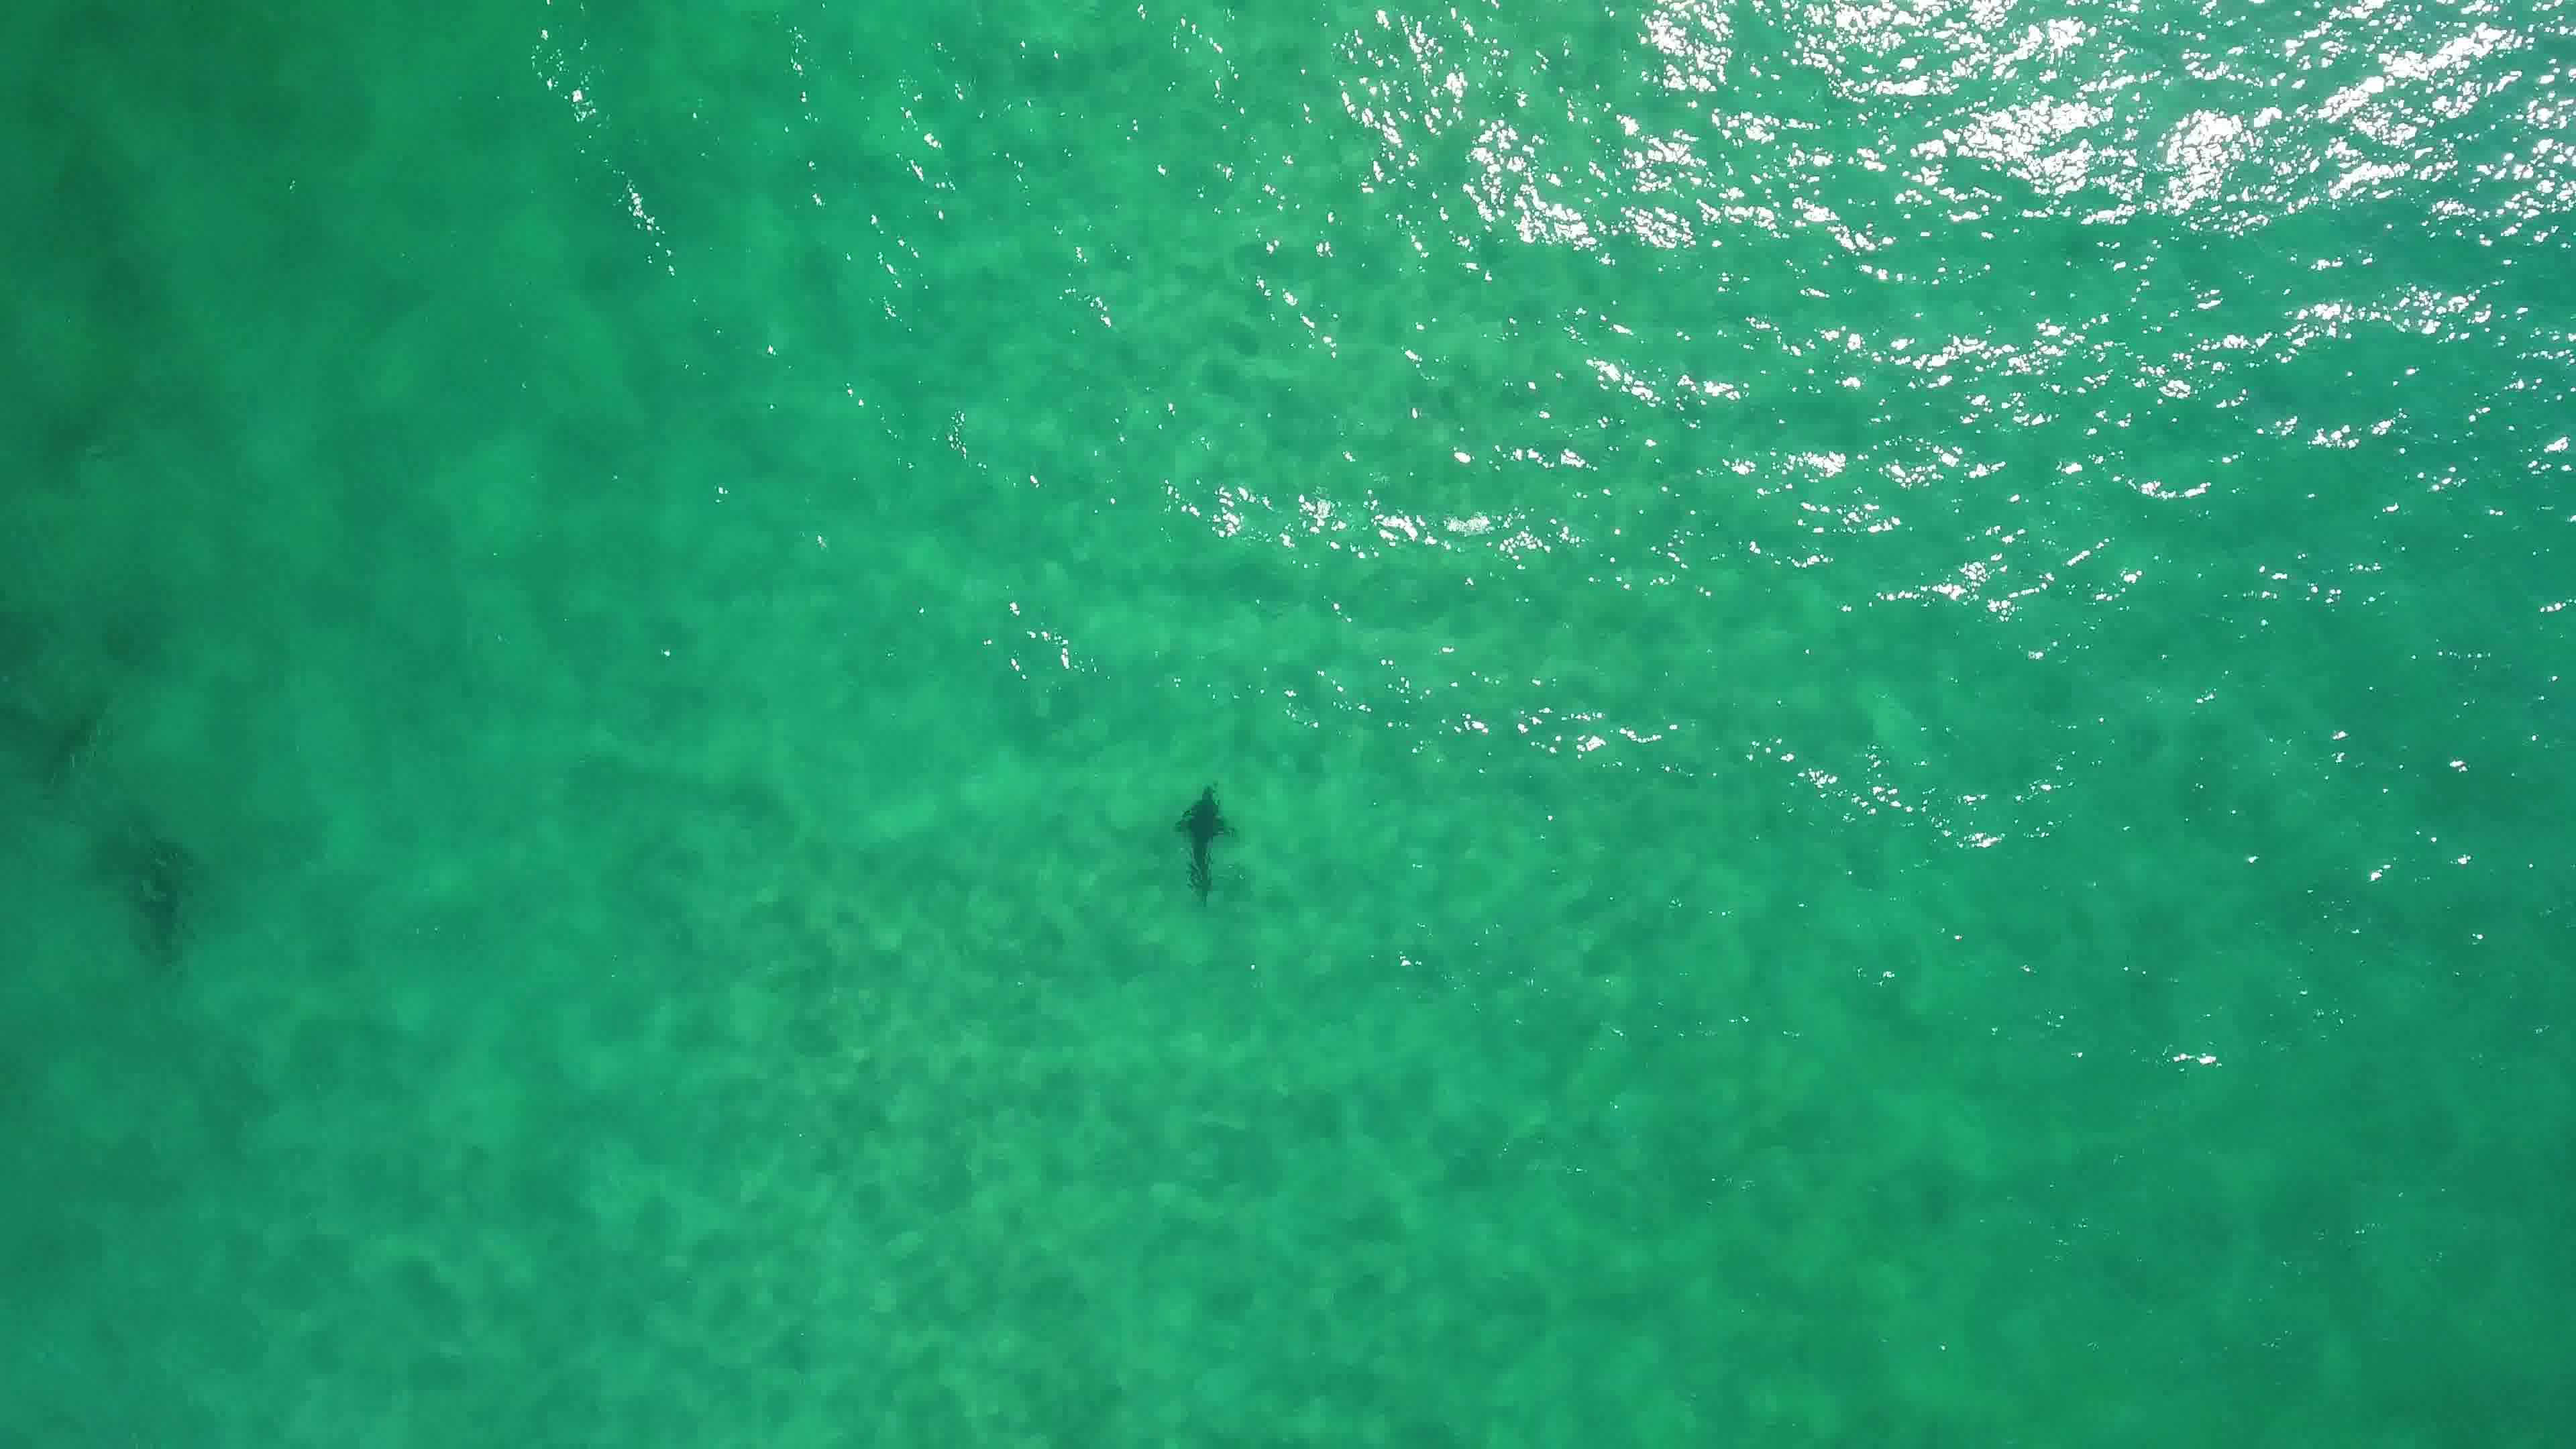shark: (1168, 778, 1240, 906)
